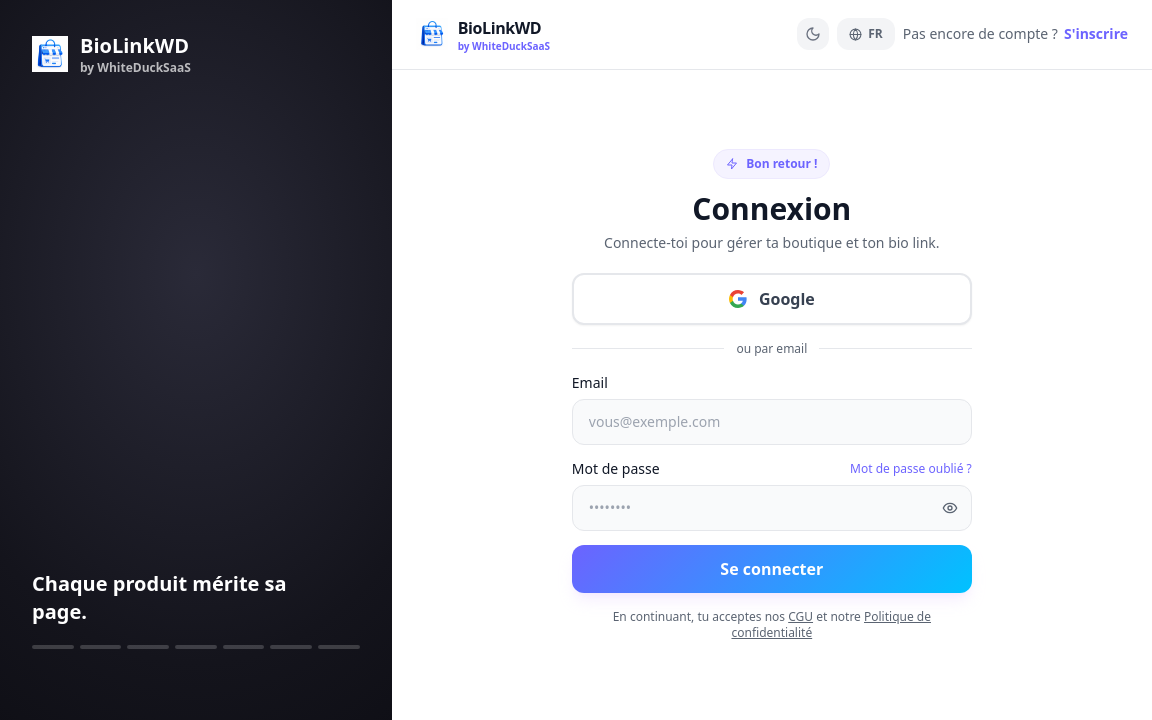
Test case: AuthScreen — bascule login / register › passer en mode register affiche le bouton "Créer mon compte" sans champ texte
Expected: the button "Créer mon compte" is not shown
Click the button "S'inscrire" at (1096, 34), box left=1064, top=24, right=1128, bottom=44
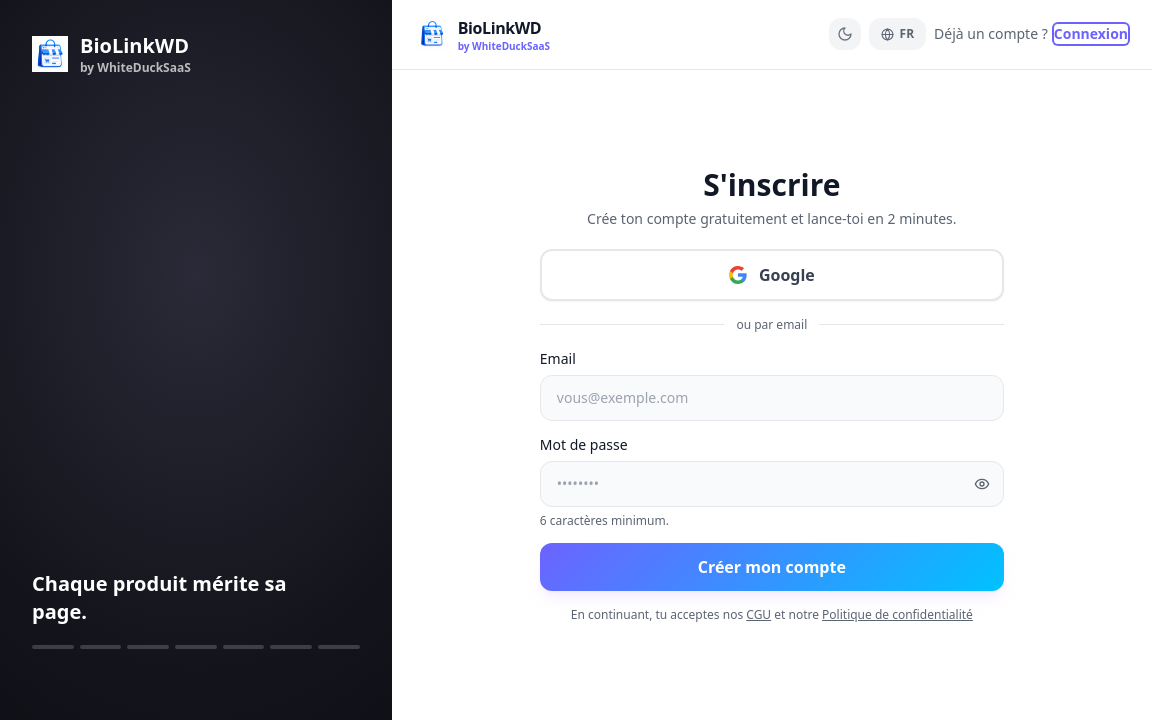
Expected: the button "Créer mon compte" is shown, left=540, top=543, right=1004, bottom=591
